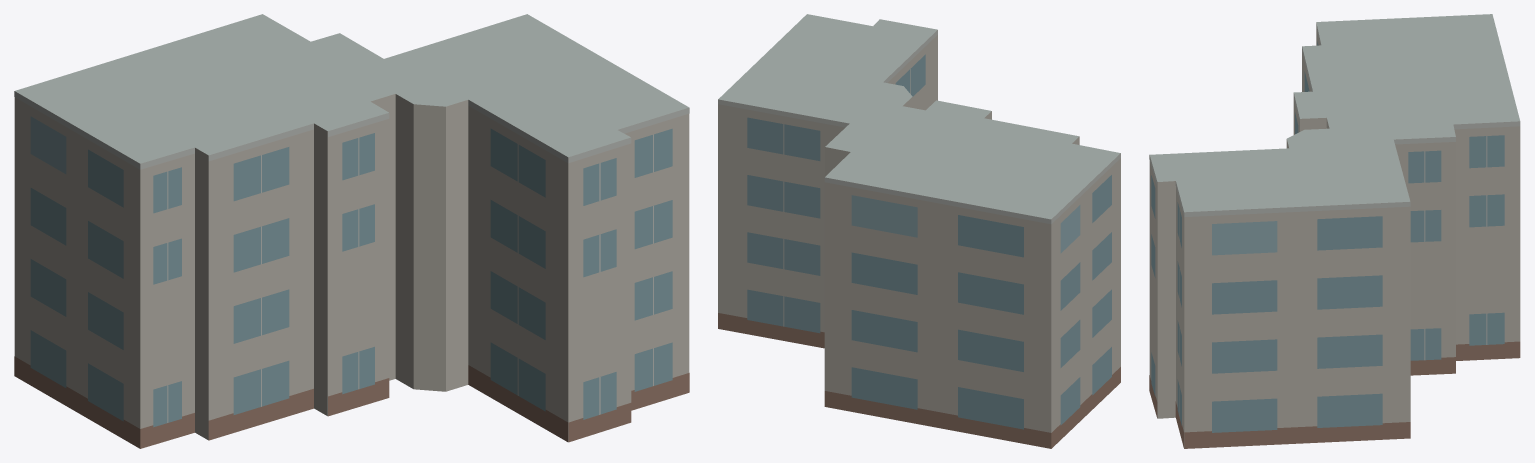
The model's file is survey-upis-32885116.glb.
The picture shows the model from 3 angles, left to right: view 1: azimuth 30°, elevation 25°; view 2: azimuth 150°, elevation 25°; view 3: azimuth 270°, elevation 25°; orthographic projection. The views are drawn at different scales.
Visible parts, largest first — view 1: survey-upis-32885116.tmp; view 2: survey-upis-32885116.tmp; view 3: survey-upis-32885116.tmp.
Boxes of the visible parts, x1=… form: survey-upis-32885116.tmp: x1=14, y1=14, x2=689, y2=448; survey-upis-32885116.tmp: x1=718, y1=14, x2=1120, y2=448; survey-upis-32885116.tmp: x1=1149, y1=14, x2=1520, y2=448.
Size of the model in its own units: 20.88 by 11.62 by 16.51.
